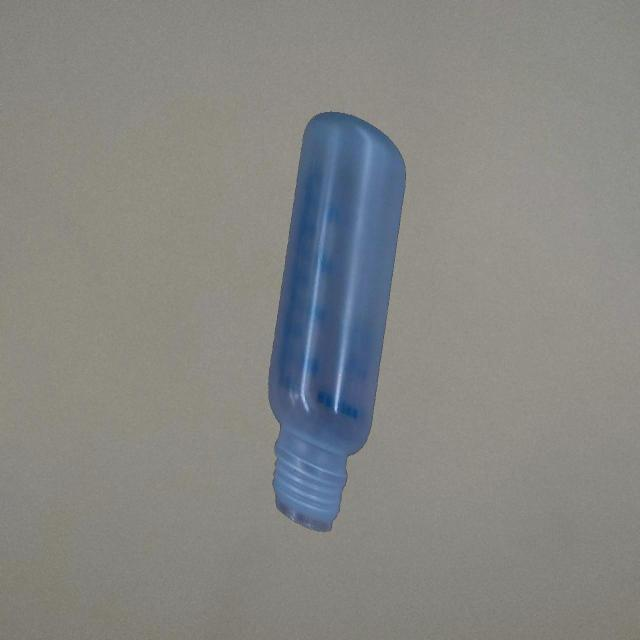bottle: (268, 109, 406, 535)
